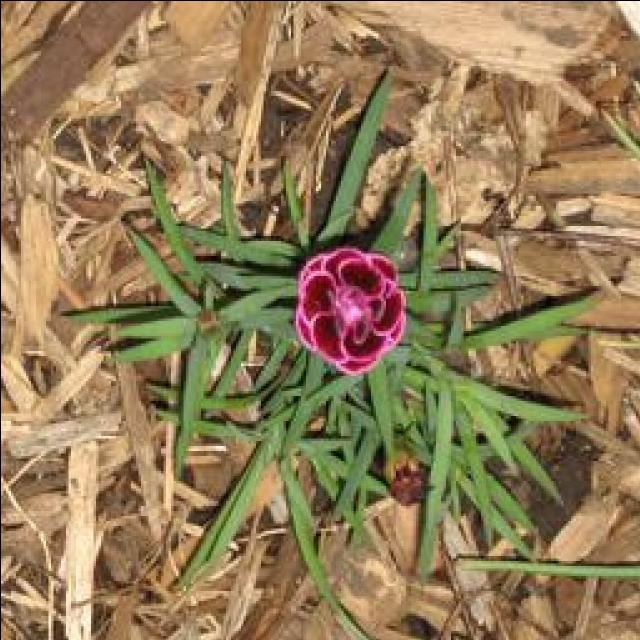carnation: (275, 230, 419, 378)
